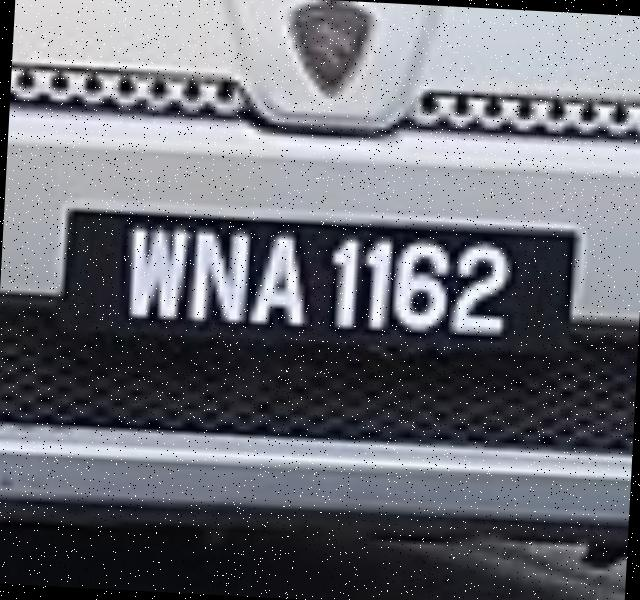License_Plate: (59, 205, 580, 374)
